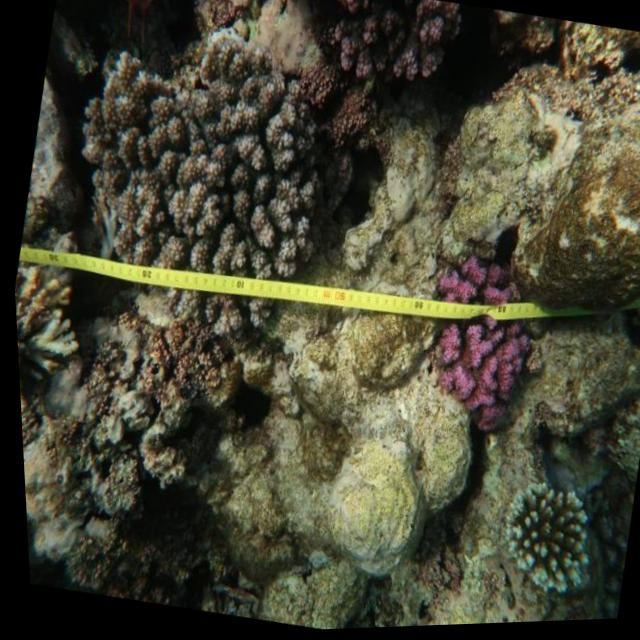Bleached Coral: (485, 479, 605, 611)
Dead Coral: (49, 7, 348, 299)
Healthy Coral: (406, 245, 557, 445)
